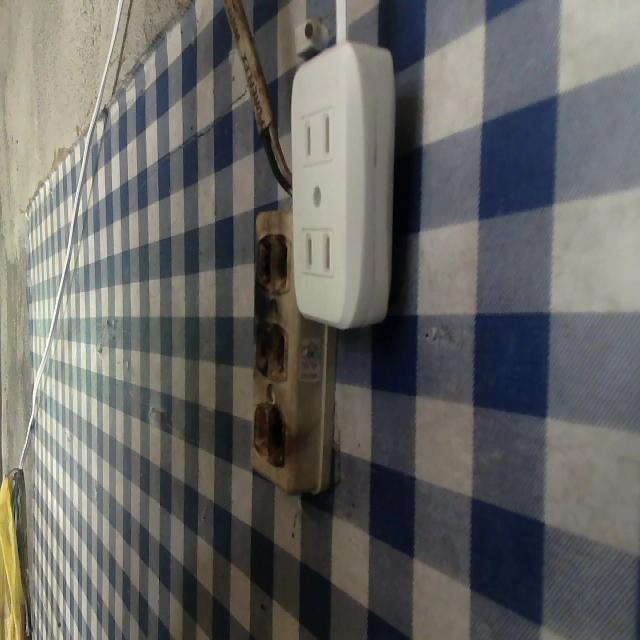-: (244, 399, 299, 473), (248, 313, 292, 384), (252, 228, 295, 297)
